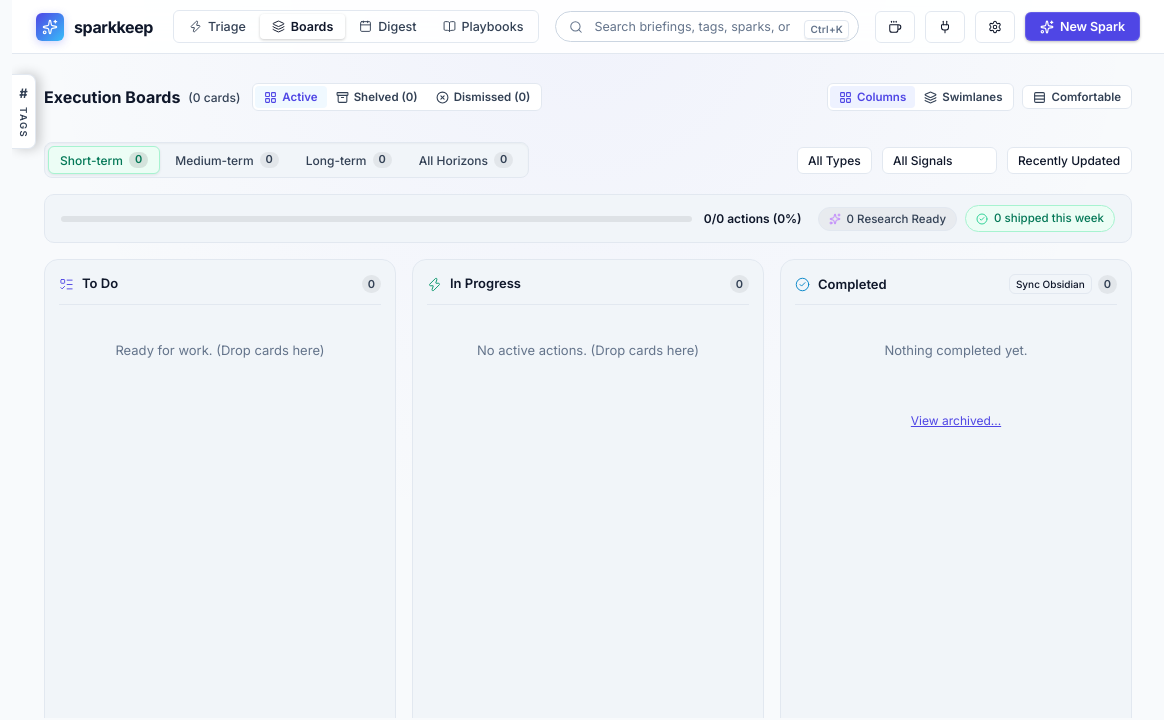
Test: App Playbook Studio Top-Level Navigation & Full-Width Workspace › switches to full-width Playbook Studio workspace without sidebar when clicking Playbooks in header
The width and height of the screenshot is (1164, 720).
Note: Click Playbooks in top-level header navigation
Click the button "Playbooks". click: (483, 26)
box: [430,14,535,39]
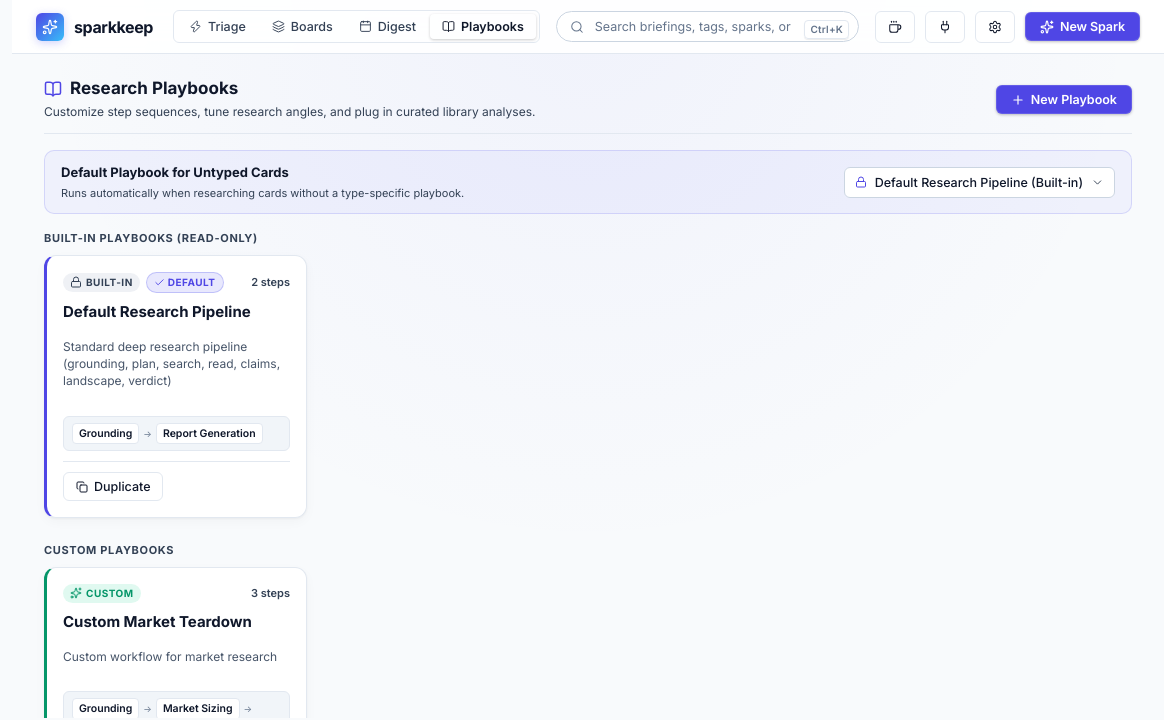
Expected: the element with class "no-sidebar" is shown
Expected: the heading "Default Research Pipeline" is shown, [63,302,251,321]
Expected: the heading "Custom Market Teardown" is shown, [63,612,252,631]
